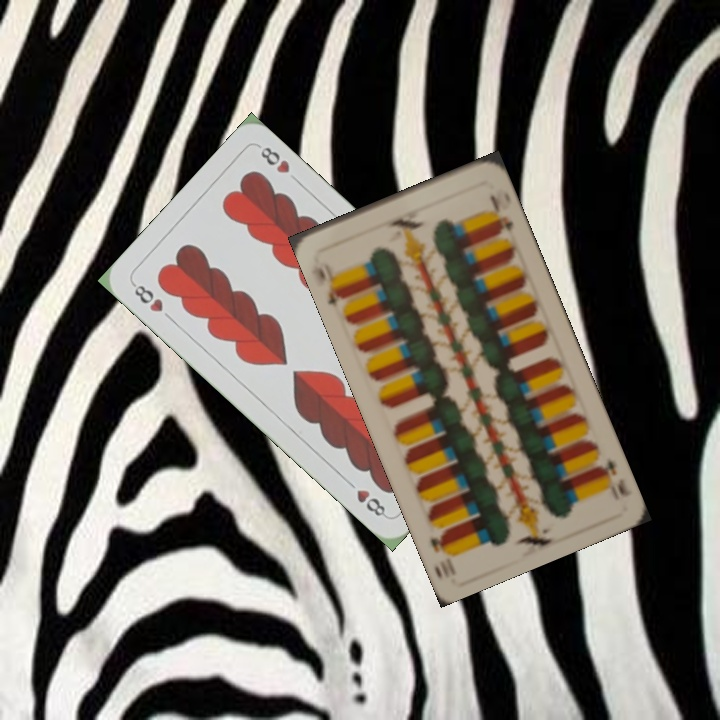E10: (309, 252, 349, 309), (592, 455, 632, 499)
H8: (128, 279, 166, 315)
